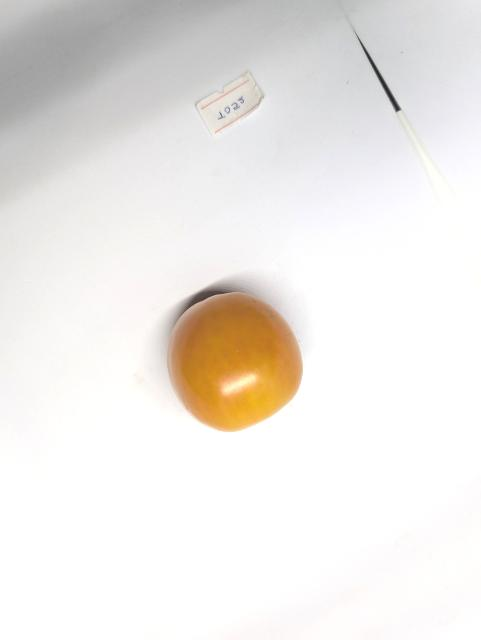turning: (156, 285, 318, 437)
